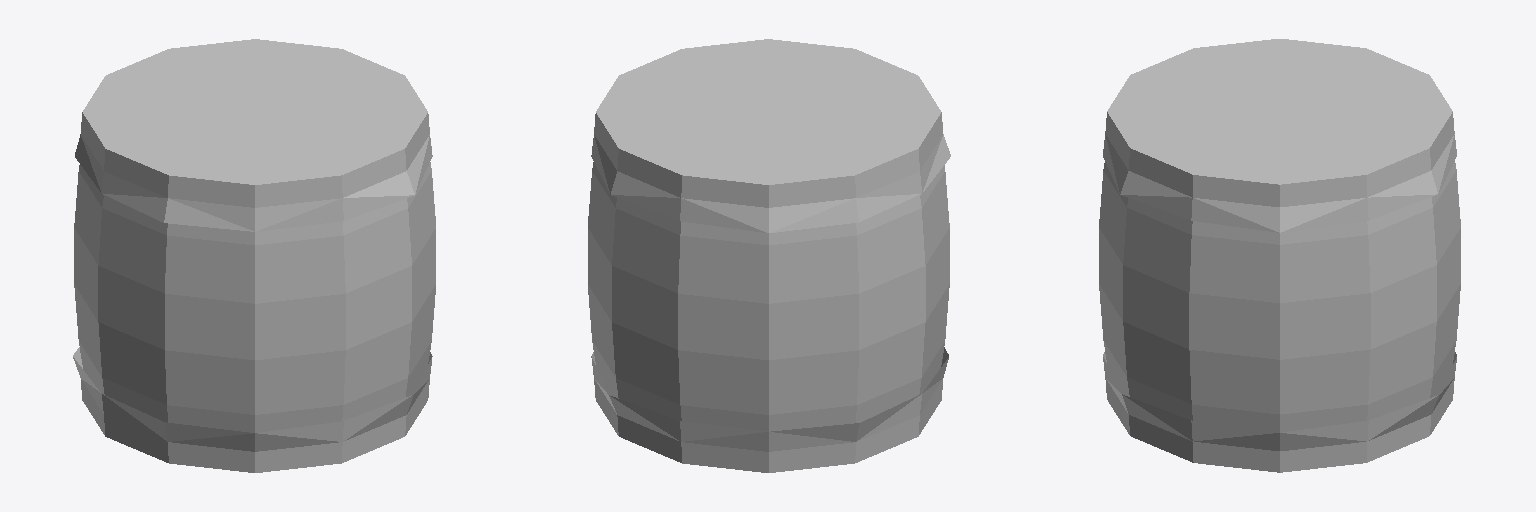
File: Taiko.obj
3 views of the same model, side by side, from view 1: azimuth 30°, elevation 25°; view 2: azimuth 150°, elevation 25°; view 3: azimuth 270°, elevation 25° (orthographic).
Parts seen in each view (by area): view 1: Converted object 0(m0), Converted object 0(m1); view 2: Converted object 0(m0), Converted object 0(m1); view 3: Converted object 0(m0), Converted object 0(m1).
Part boxes in pixels (bbox=[...]): Converted object 0(m0): bbox=[74, 162, 435, 432]; Converted object 0(m1): bbox=[73, 39, 432, 472]; Converted object 0(m0): bbox=[588, 162, 949, 431]; Converted object 0(m1): bbox=[591, 39, 950, 472]; Converted object 0(m0): bbox=[1099, 162, 1460, 432]; Converted object 0(m1): bbox=[1103, 39, 1456, 472].
Bounding box in the file's own units: 33.18 × 28.99 × 33.03.